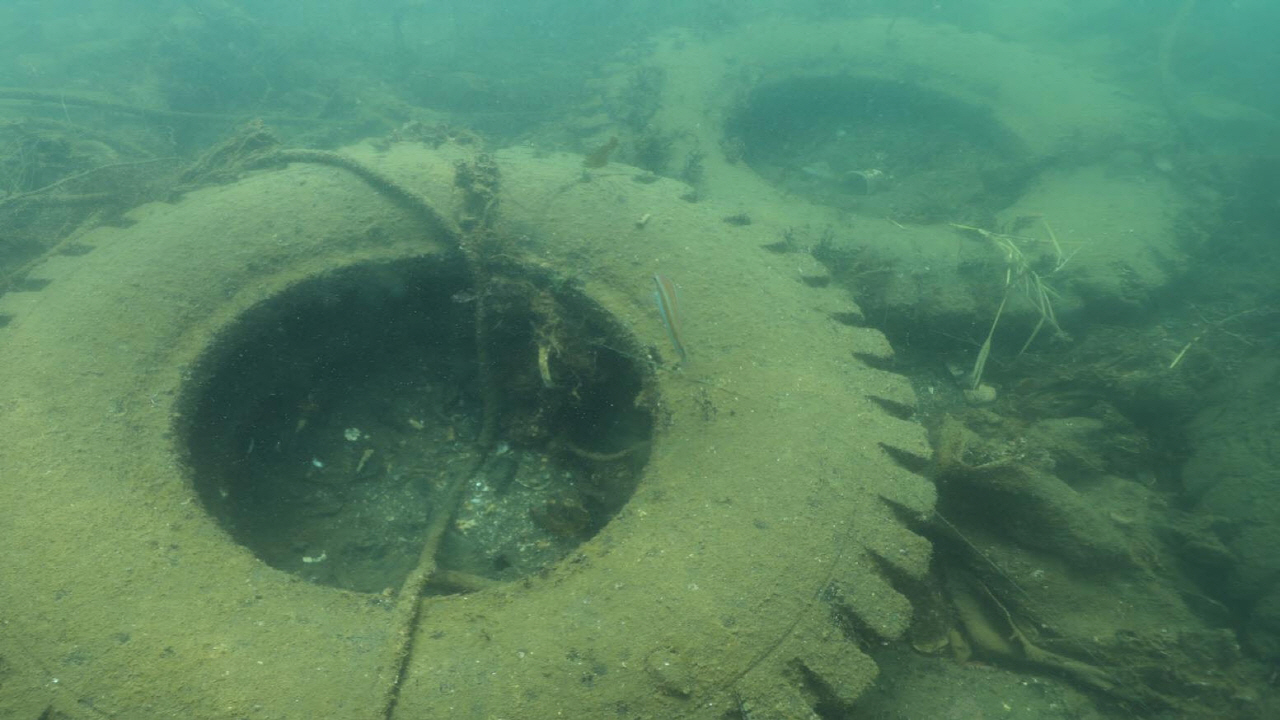rope: (232, 137, 501, 720)
tire: (0, 134, 939, 720), (572, 12, 1224, 350)
